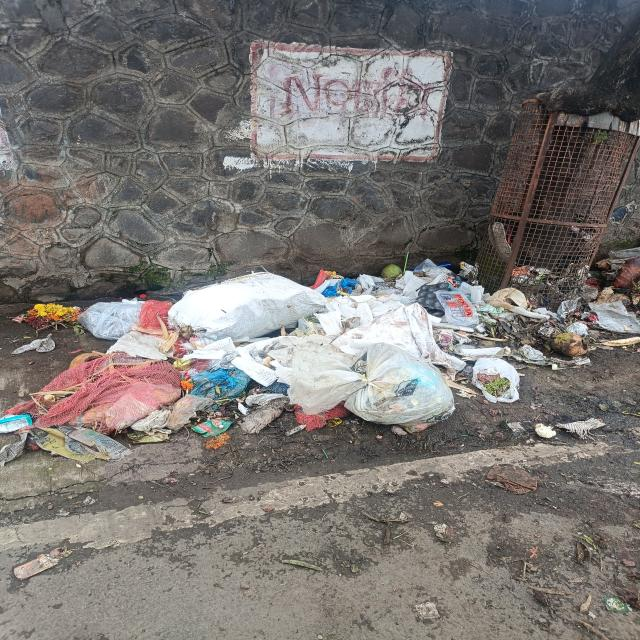garbage: (7, 263, 557, 437)
